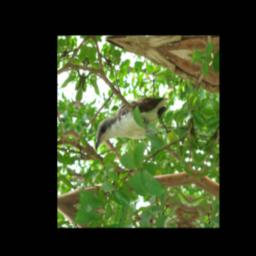Cuckoo: (93, 84, 172, 162)
